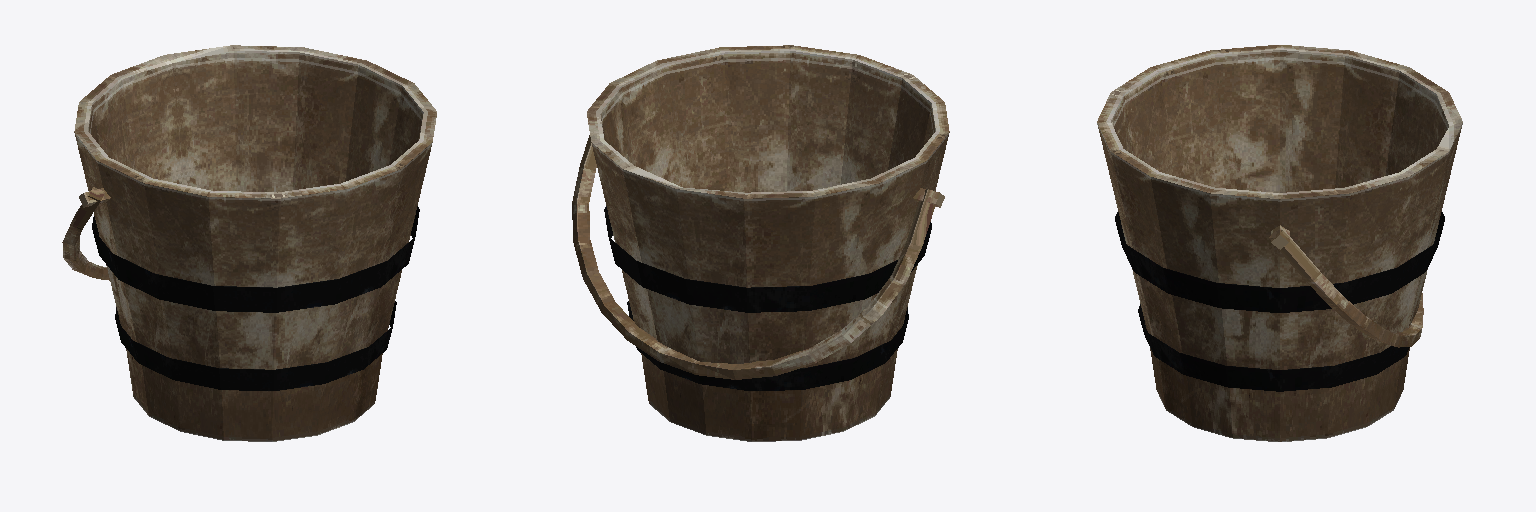
3 renders of one model, left to right at view 1: azimuth 30°, elevation 25°; view 2: azimuth 150°, elevation 25°; view 3: azimuth 270°, elevation 25°, orthographic.
Visible parts, largest first — view 1: mesh0; view 2: mesh0; view 3: mesh0.
Boxes of the visible parts, x1=… form: mesh0: x1=62, y1=45, x2=436, y2=441; mesh0: x1=572, y1=45, x2=949, y2=441; mesh0: x1=1097, y1=45, x2=1462, y2=441.
Size of the model in its own units: 0.474 by 0.3528 by 0.4357.
Materials: 1 (1 with a texture image).